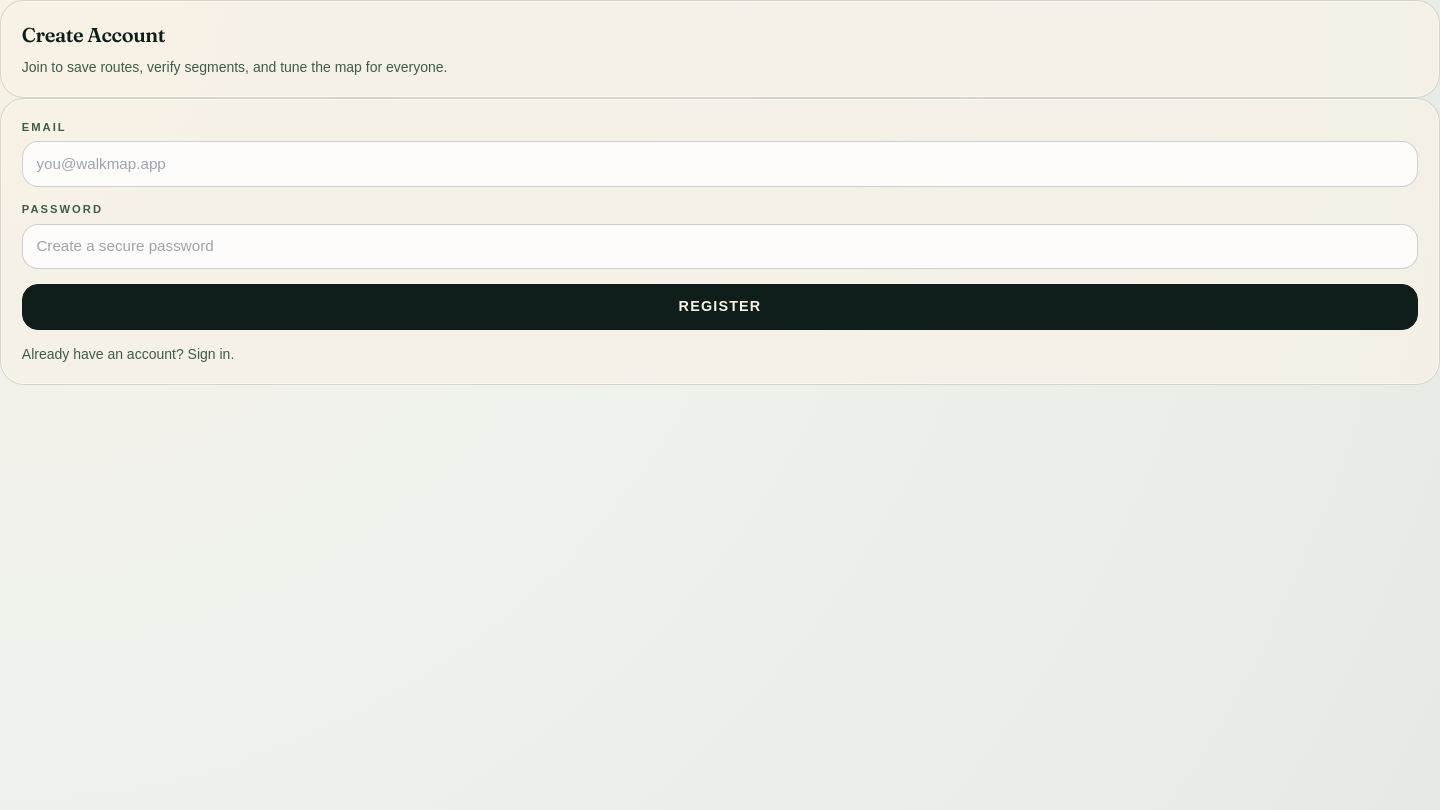
Scenario: auth panels › shows register validation error before submitting
This screenshot has width=1440, height=810.
Step 1. Type "user@example.com" into the field labelled "Email" → (720, 164), box [22,141,1418,187]
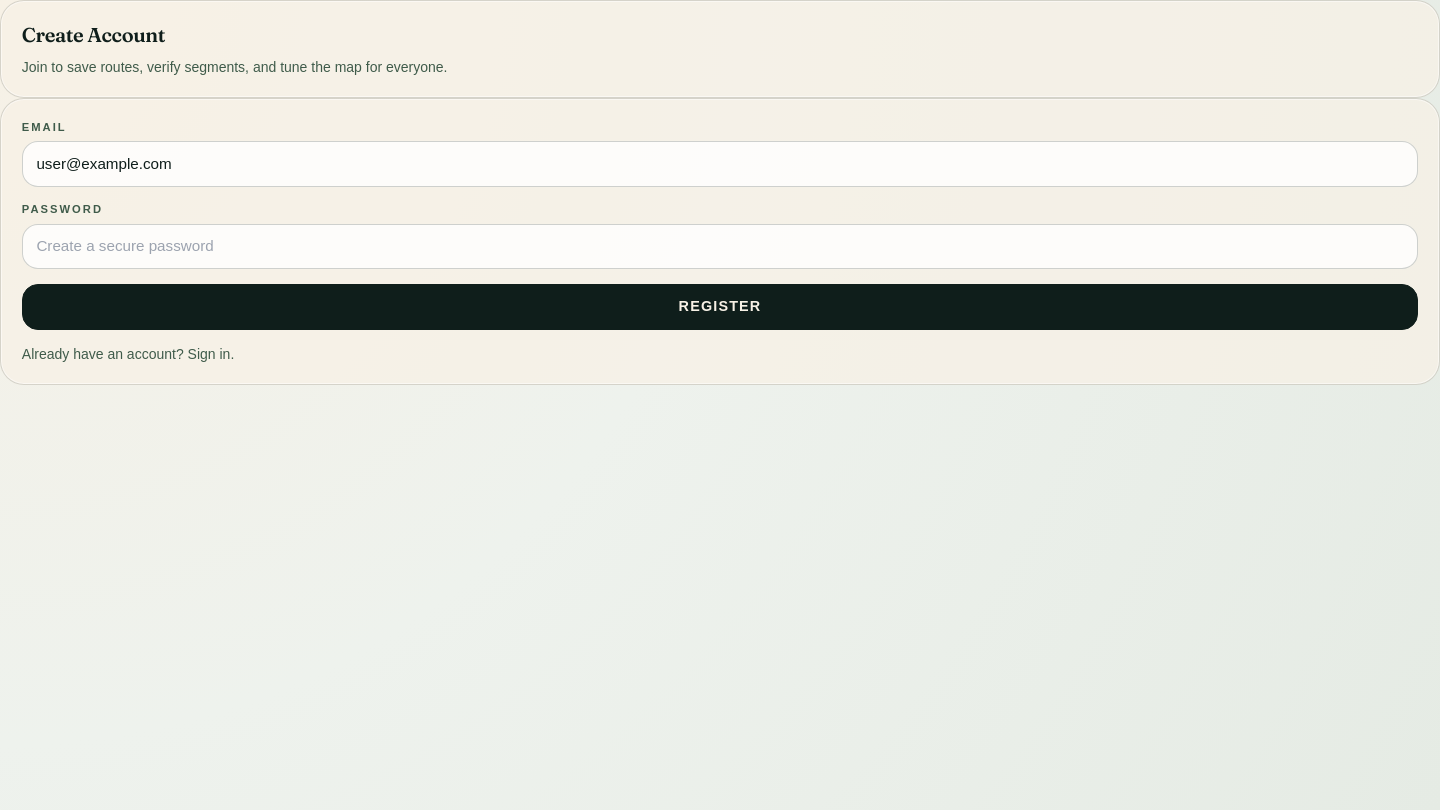
Step 2. Click the button "Register" → (720, 307), box [22,284,1418,330]
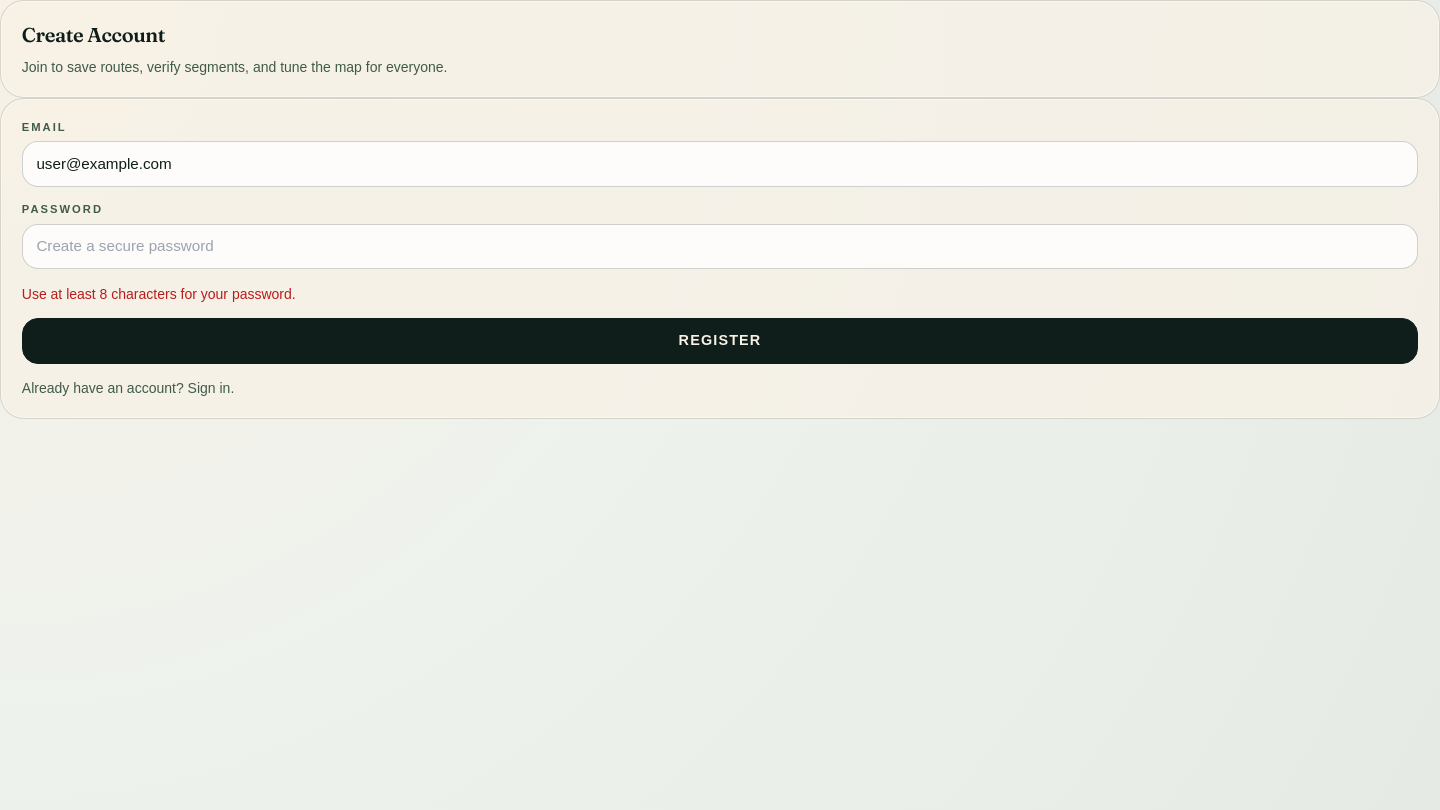
expect the message shows "at least 8 characters": met, box [22,286,296,302]
